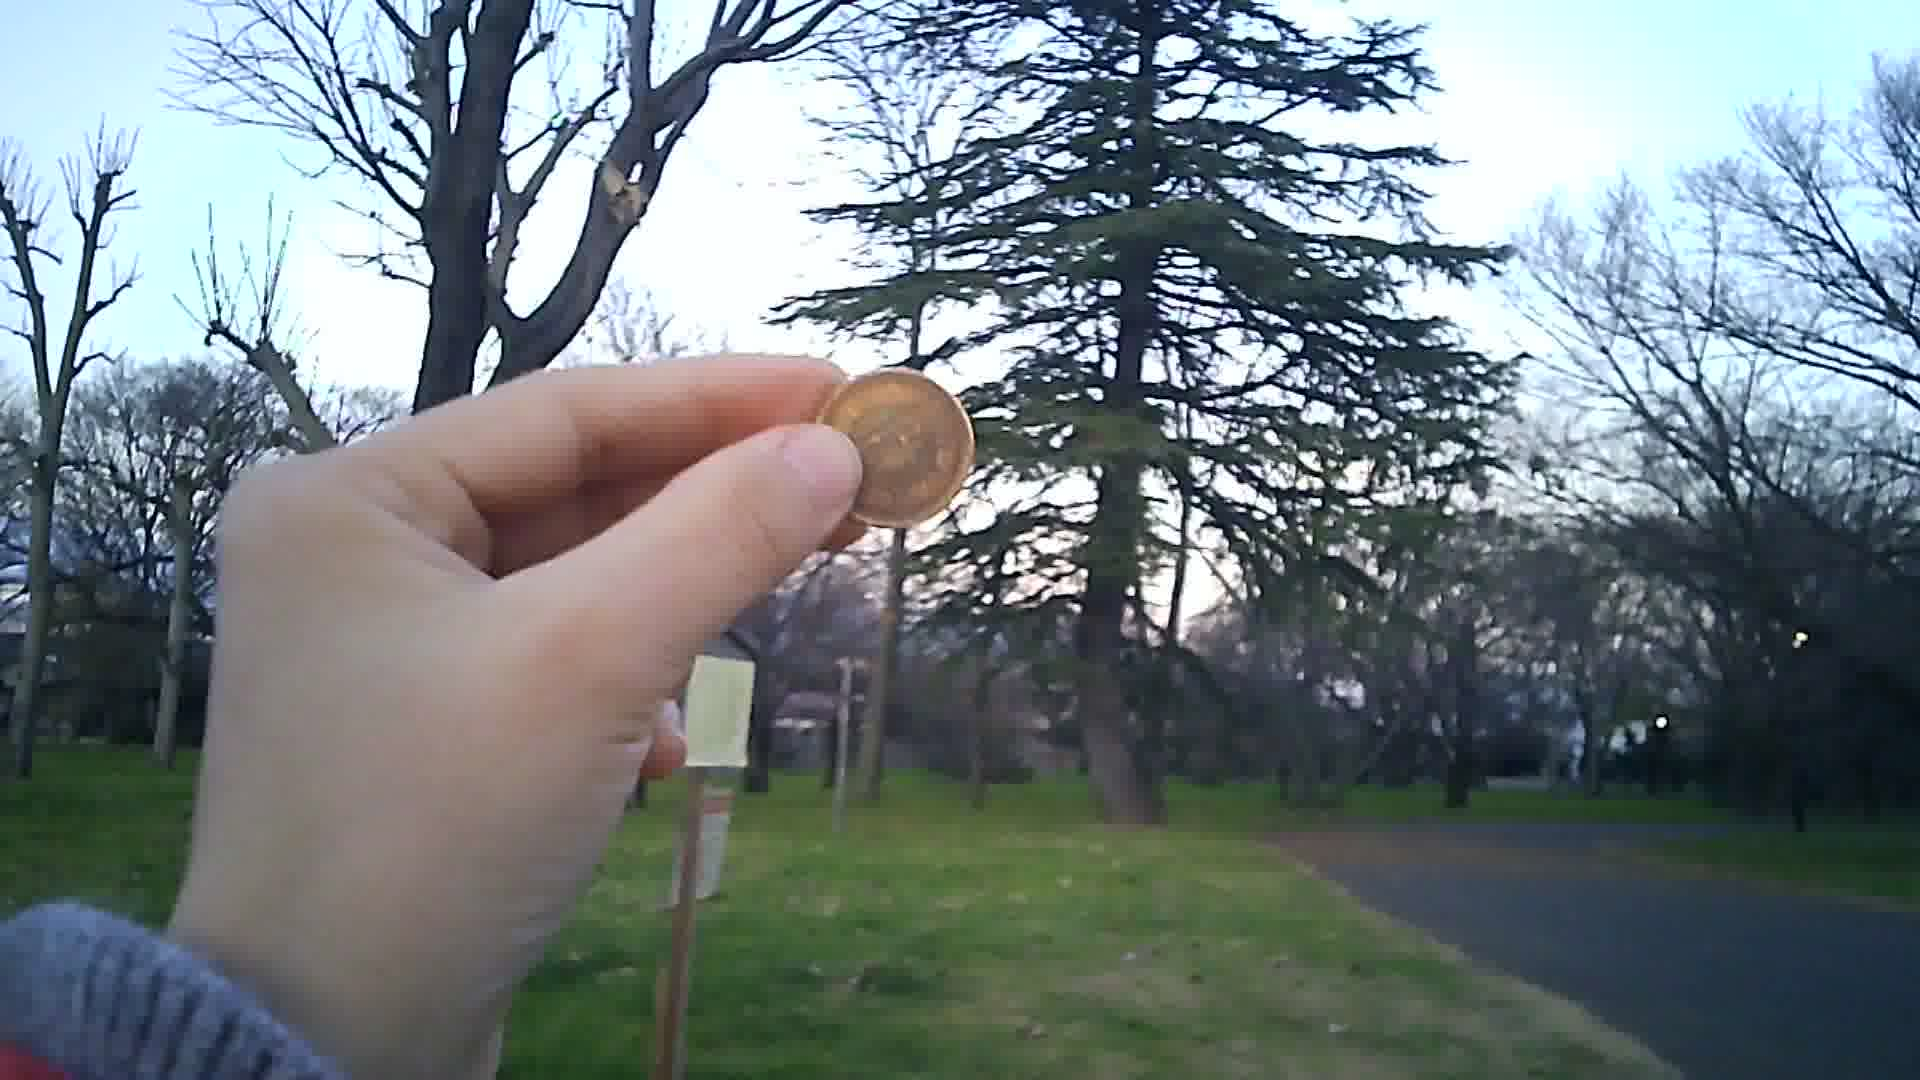10 Yen: (816, 363, 978, 535)
